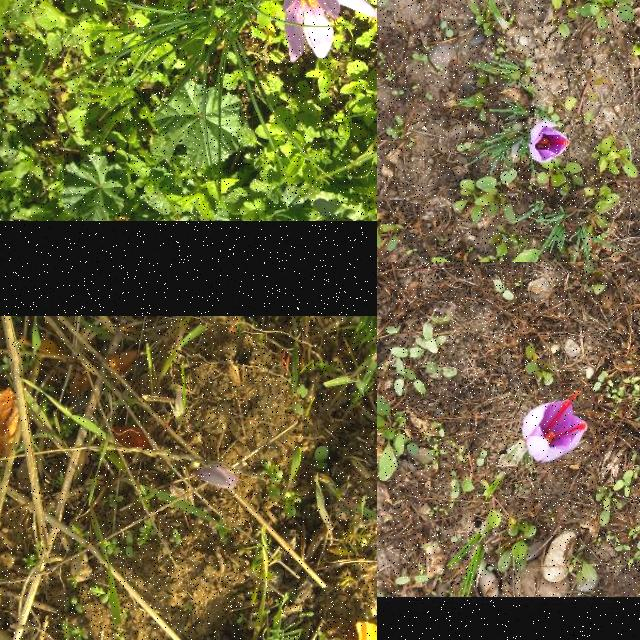flower: (281, 0, 377, 63), (522, 391, 588, 463), (528, 119, 572, 163), (196, 464, 238, 490)
